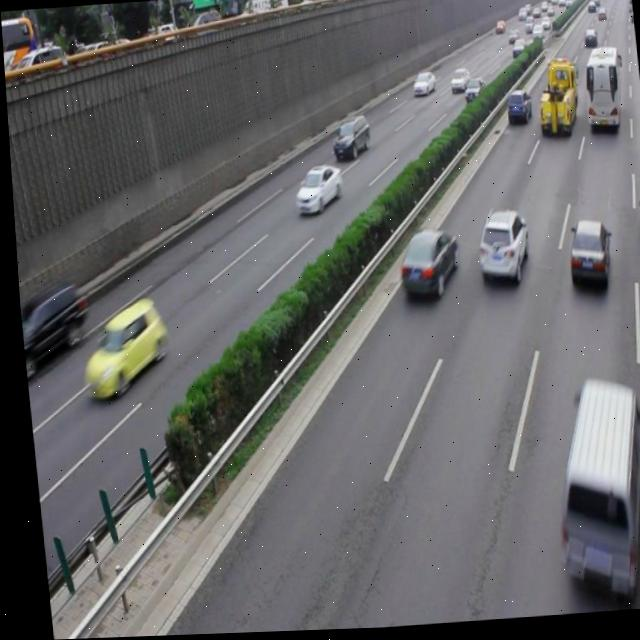car: (71, 295, 168, 400), (391, 228, 456, 303), (468, 209, 526, 288), (559, 221, 606, 289), (289, 164, 341, 218), (326, 116, 370, 163), (631, 195, 640, 262)
truck: (534, 380, 640, 600), (15, 279, 85, 376)
